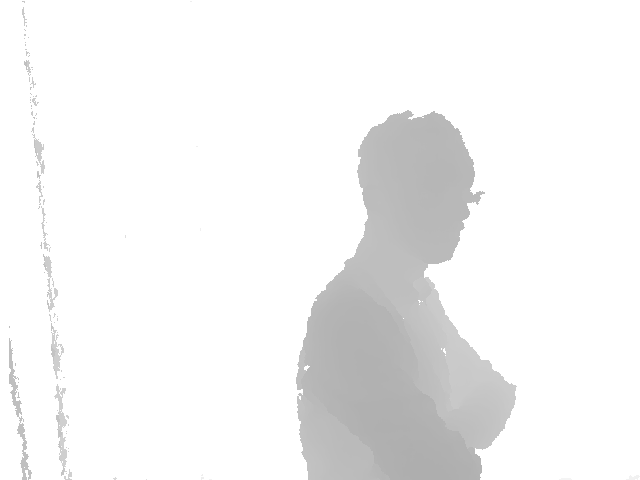head: (357, 110, 482, 265)
person: (294, 111, 520, 480)
